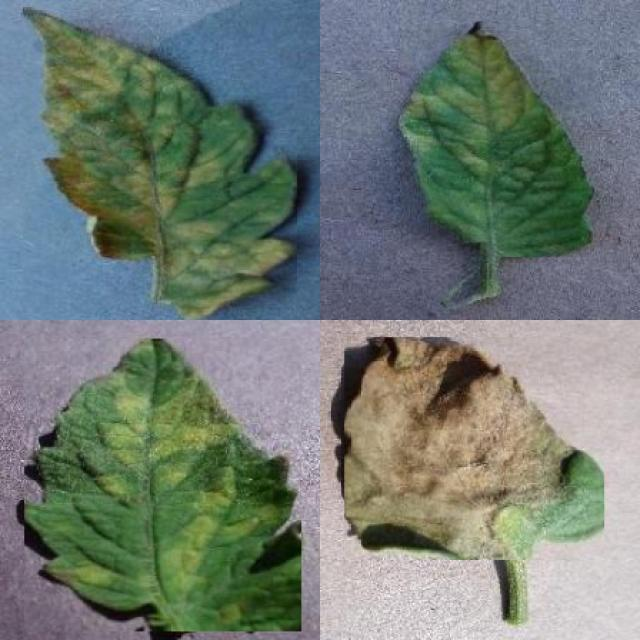Late Blight: (345, 337, 605, 560)
Leaf Mold: (23, 7, 298, 320), (25, 338, 302, 632), (400, 20, 594, 257)
